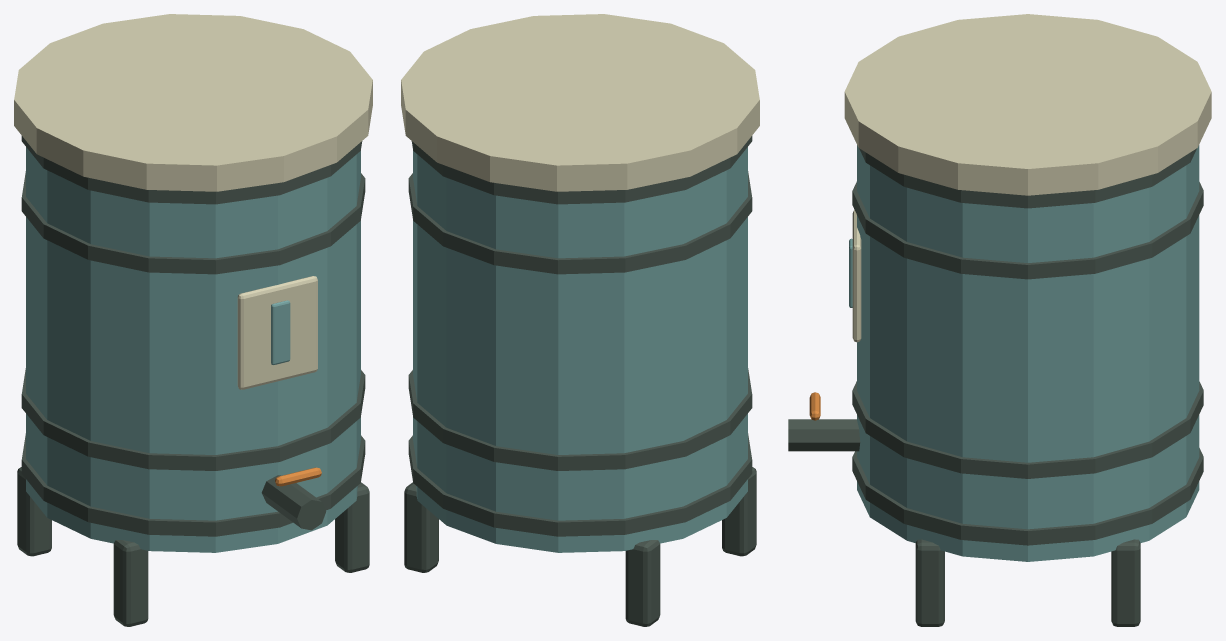
File: water_tank.glb
3 renders of one model, left to right at view 1: azimuth 30°, elevation 25°; view 2: azimuth 150°, elevation 25°; view 3: azimuth 270°, elevation 25°, orthographic.
Parts seen in each view (by area): view 1: cistern, lid, tank_label, tank_band.001, tank_band.002, tank_band, tank_band.003, tank_foot, tank_foot.002, tap_pipe, tank_foot.001, water_mark (+1 smaller); view 2: cistern, lid, tank_band, tank_band.001, tank_band.002, tank_band.003, tank_foot.001, tank_foot.003, tank_foot; view 3: cistern, lid, tank_band.001, tank_band.002, tank_band, tank_band.003, tank_foot.002, tank_foot.003, tap_pipe, tank_label.
Part boxes in pixels (x1,y1,x2,y2): cistern: (26,147,360,552); lid: (14,14,372,191); tank_label: (237,276,317,389); tank_band.001: (21,368,365,470); tank_band.002: (21,171,365,274); tank_band: (21,433,365,536); tank_band.003: (21,136,362,204); tank_foot: (113,540,148,626); tank_foot.002: (335,482,369,572); tap_pipe: (261,475,326,530); tank_foot.001: (17,467,51,556); water_mark: (271,300,290,365); cistern: (413,147,747,552); lid: (401,14,759,191); tank_band: (408,433,752,536); tank_band.001: (408,368,752,470); tank_band.002: (408,171,752,274); tank_band.003: (411,136,752,204); tank_foot.001: (625,540,660,626); tank_foot.003: (404,482,438,572); tank_foot: (722,467,756,556); cistern: (857,145,1199,561); lid: (844,14,1211,195); tank_band.001: (852,381,1203,478); tank_band.002: (852,181,1203,279); tank_band: (852,448,1203,545); tank_band.003: (859,148,1196,208); tank_foot.002: (915,539,944,626); tank_foot.003: (1111,539,1140,626); tap_pipe: (788,419,860,451); tank_label: (852,210,861,342).
Bounding box in the file's own units: 1.5 × 2.15 × 1.73.
